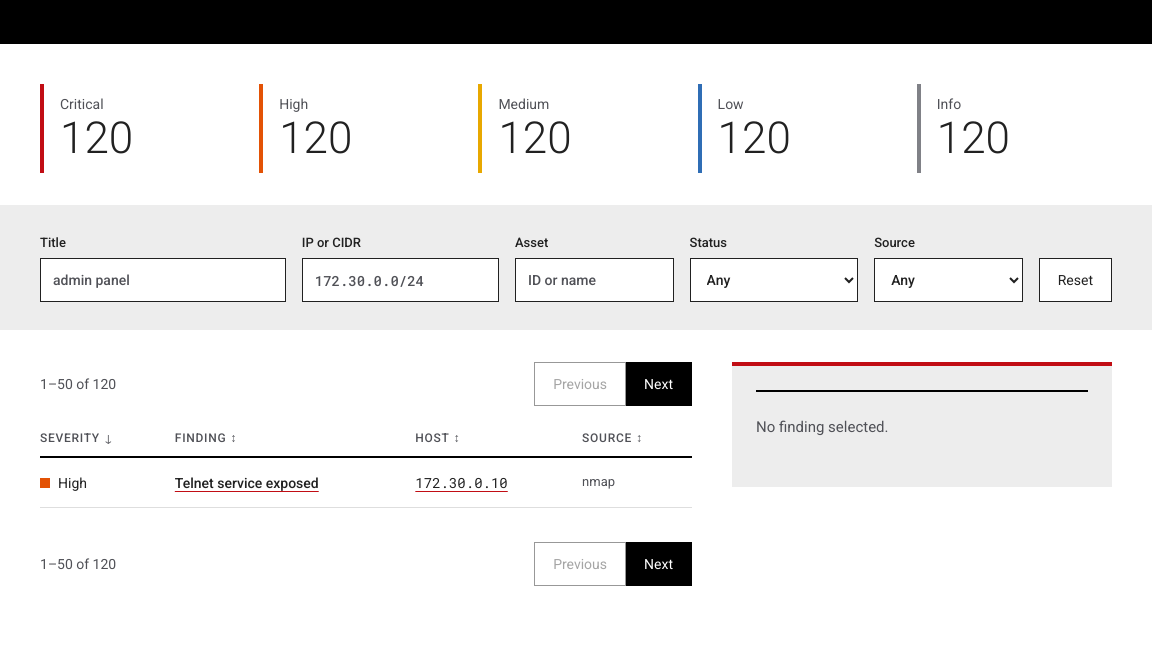
Findings page › shows pagination controls both above and below the findings table
The width and height of the screenshot is (1152, 650).
(page scrolled)
Expected: the link "Telnet service exposed" is shown, [175,475,319,491]
Expected: the text "1–50 of 120" is shown 2 times, [40,374,116,394]; [40,554,116,574]
// Clicking the top Next button advances to page 2.
Click the 1st button "Next": (659, 384) [626,362,692,406]
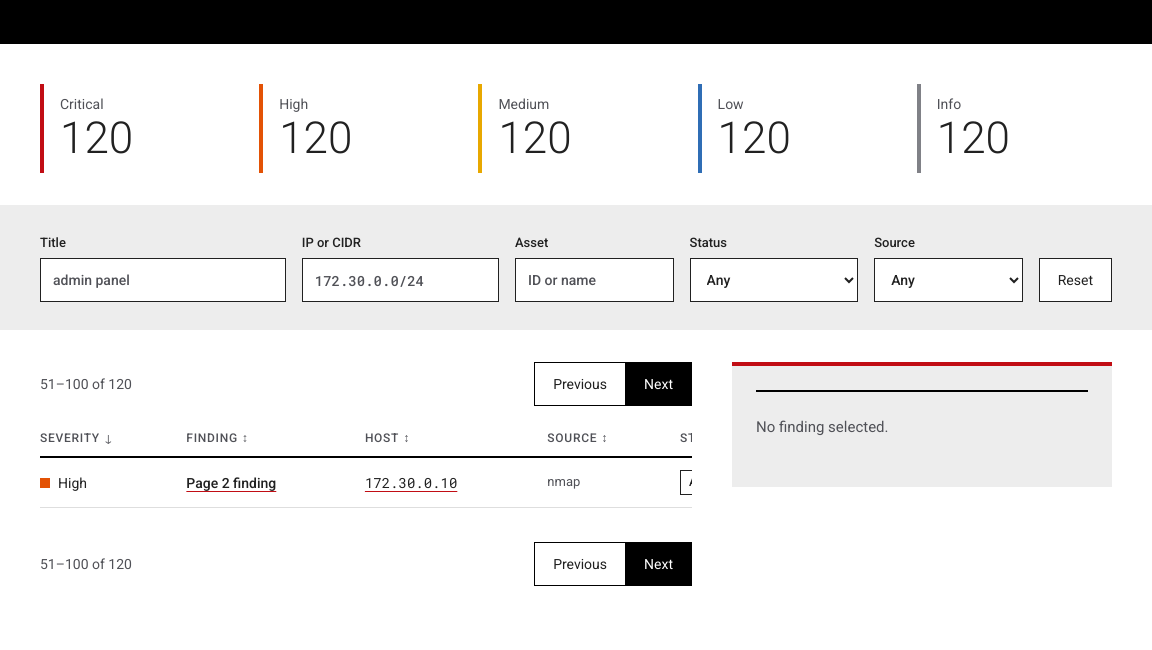
Expected: the text "51–100 of 120" is shown 2 times, [40,374,132,394]; [40,554,132,574]
Expected: the link "Page 2 finding" is shown, [186,475,276,491]
// Clicking the bottom Previous button returns to page 1.
Click the 2nd button "Previous": (580, 564) [534,542,626,586]
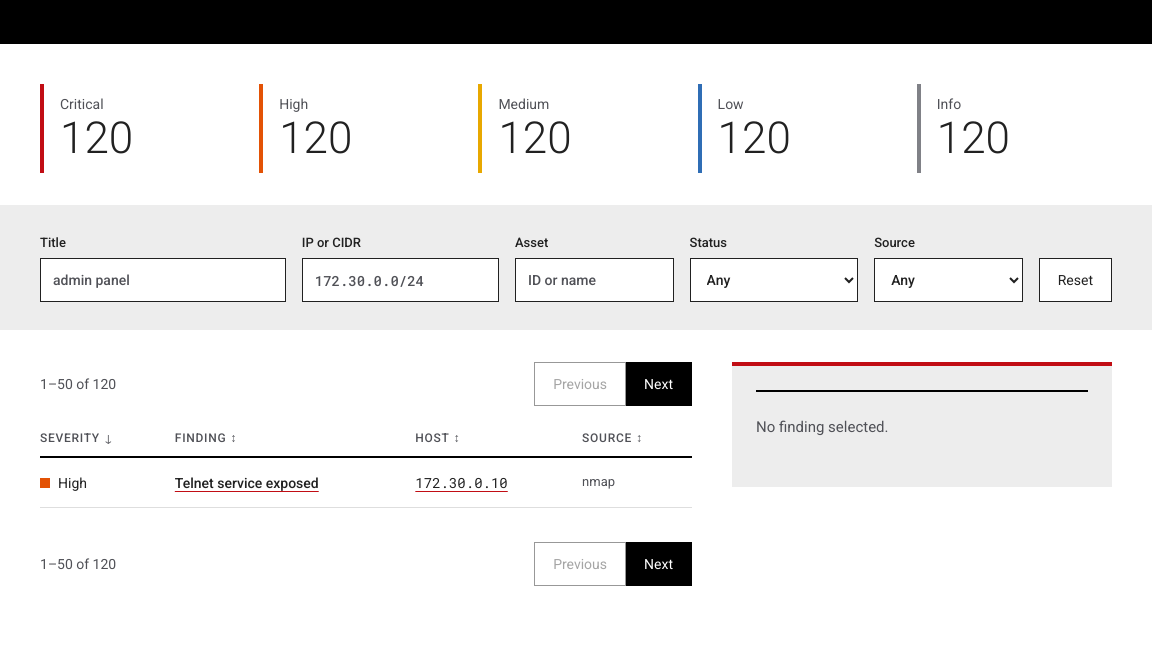
Expected: the text "1–50 of 120" is shown 2 times, [40,374,116,394]; [40,554,116,574]
Expected: the link "Telnet service exposed" is shown, [175,475,319,491]
